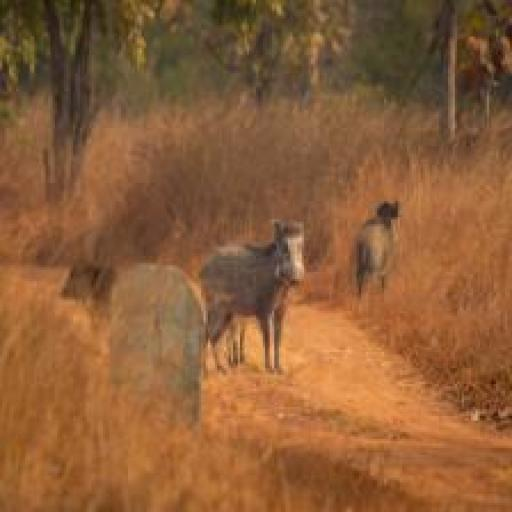Pig: (192, 215, 314, 382), (350, 192, 402, 310)
